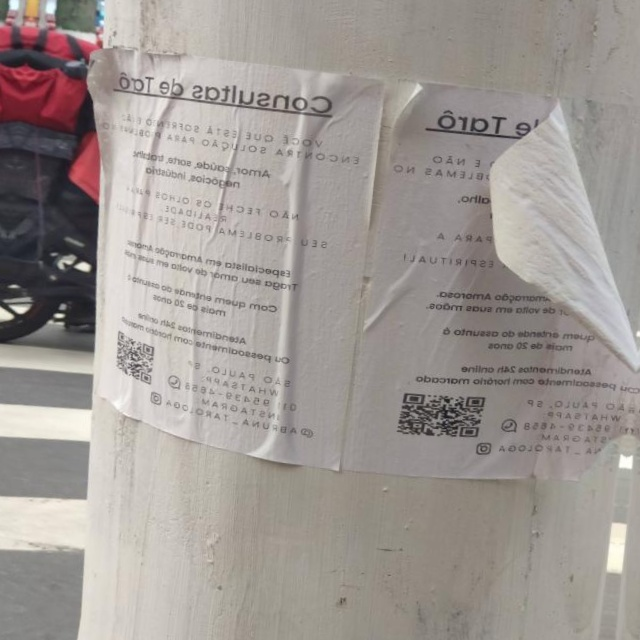qr-code: (396, 389, 485, 442), (113, 330, 156, 385)
